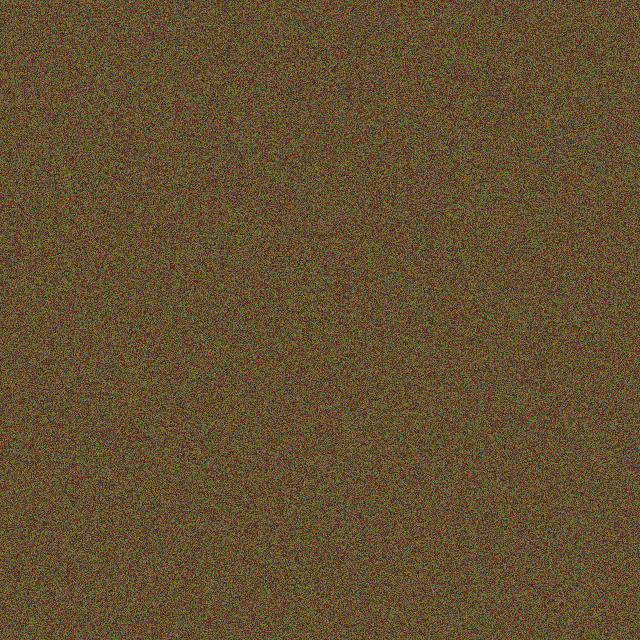ghost_net: (133, 277, 207, 346)
